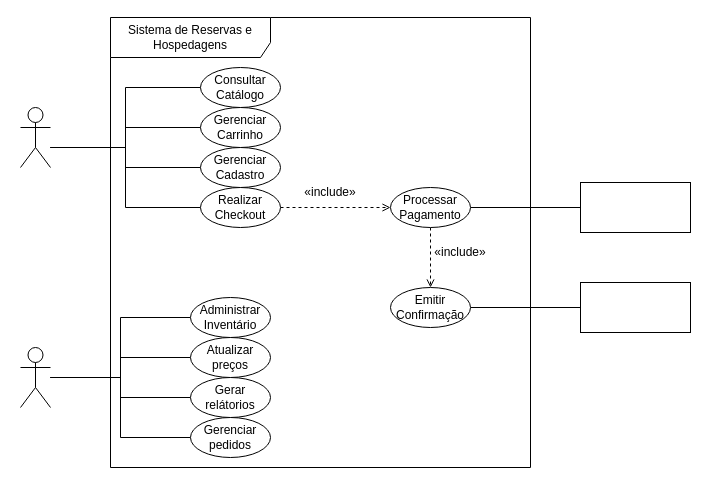
This 708x485 diagram has some shape labels left out. Each missing label, with the centre of its shape:
Cliente: the point at 35,137
Gestor: the point at 35,377
«system» API de Pagamento: the point at 635,207
«system» Serviço de e-mail: the point at 635,307
